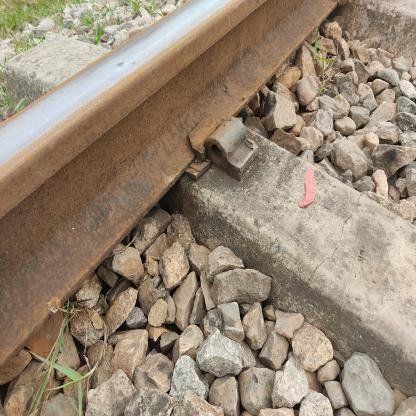Defective: (186, 98, 282, 196)
